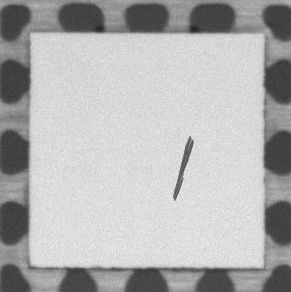DIE_INK: (170, 133, 194, 203)
